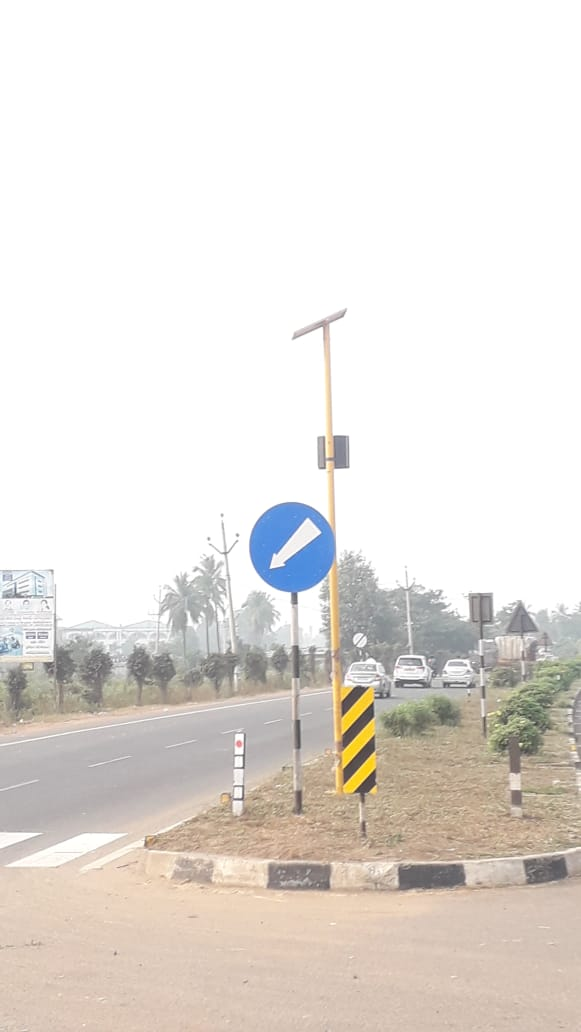go left: (231, 495, 351, 619)
